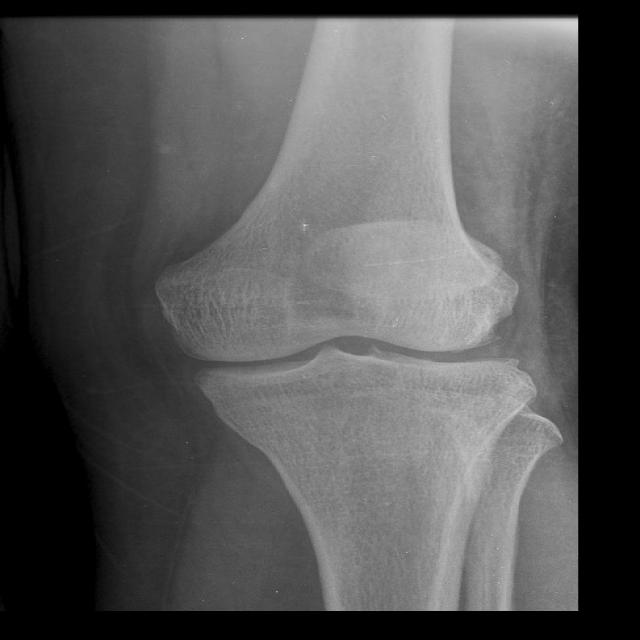normal: (156, 244, 547, 416)
